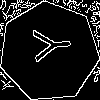Y: (24, 26, 72, 64)
